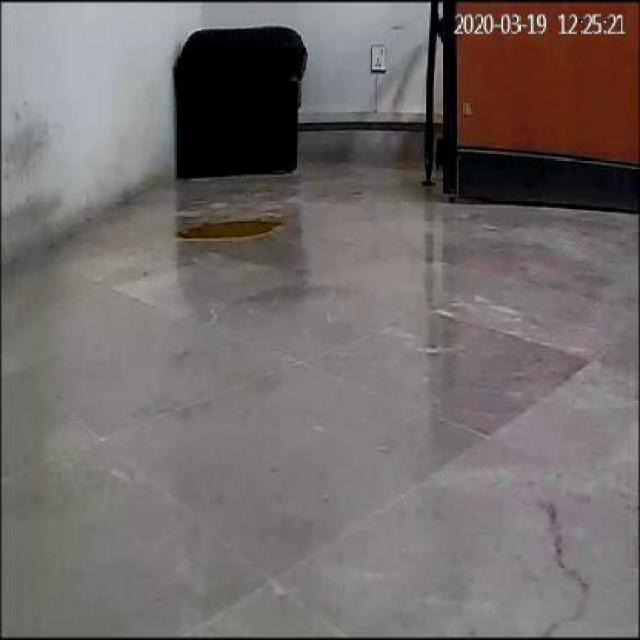spill: (168, 213, 288, 241)
